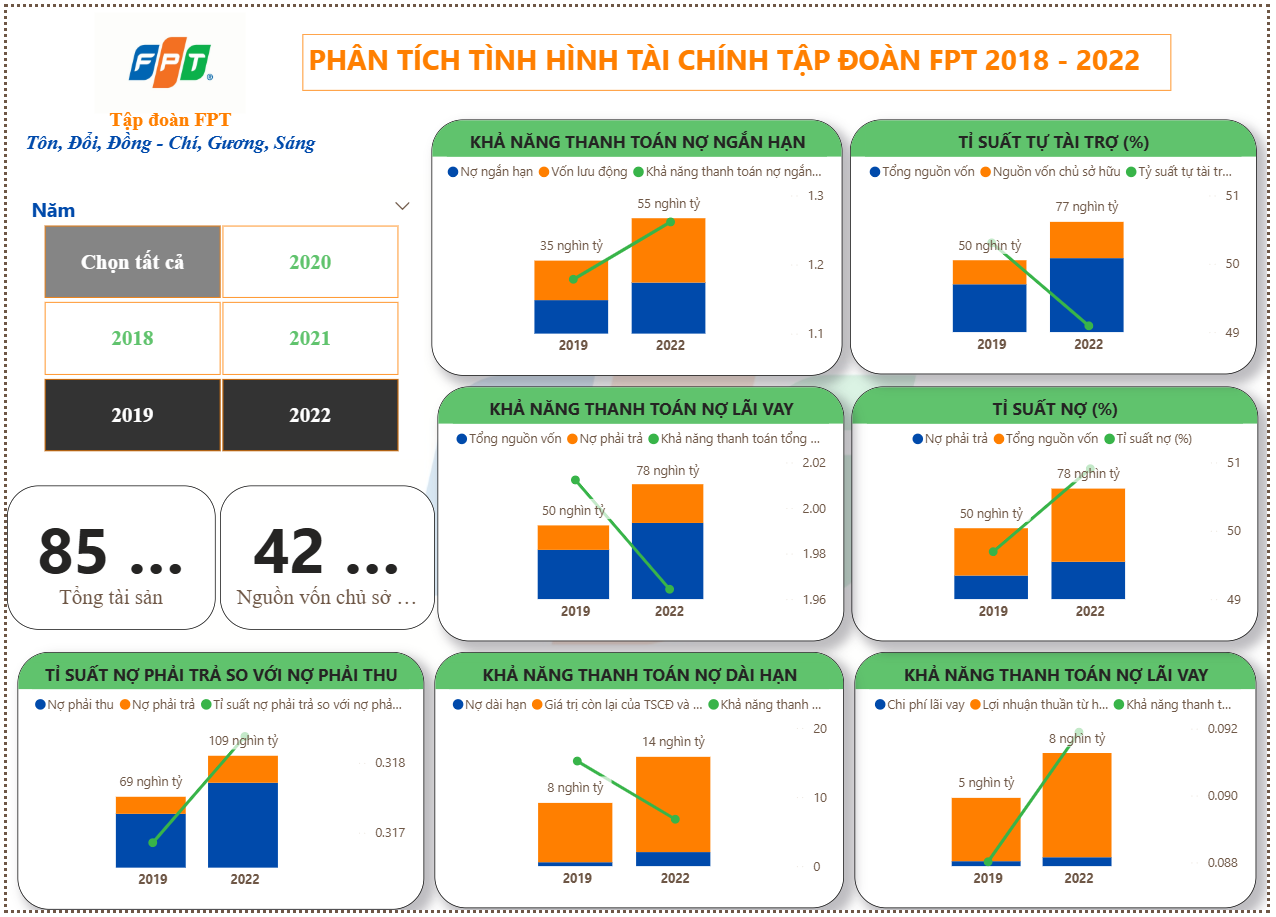

What the dashboard file says about the page in this screenshot:
{"tool":"powerbi","page":{"name":"PTTHTCDN","canvas":[1200,860],"ordinal":0},"visuals":[{"type":"lineStackedColumnComboChart","title":"KHẢ NĂNG THANH TOÁN NỢ NGẮN HẠN","fields":{"Category":["PTTCDN.Năm"],"Y":["Sum(PTTCDN.I. Nợ ngắn hạn)","Sum(PTTCDN.Vốn lưu động)"],"Y2":["Sum(PTTCDN.Khả năng thanh toán nợ ngắn hạn)"]},"box":[404.6,106.6,391.4,243.9],"z":0},{"type":"lineStackedColumnComboChart","title":"KHẢ NĂNG THANH TOÁN NỢ LÃI VAY","fields":{"Category":["PTTCDN.Năm"],"Y":["Sum(PTTCDN.Chi phí lãi vay)","Sum(PTTCDN.Lợi nhuận thuần từ hoạt động kinh doanh)"],"Y2":["Sum(PTTCDN.Khả năng thanh toán lãi vay)"]},"box":[807.7,614.9,382.7,243.9],"z":1000},{"type":"lineStackedColumnComboChart","title":"TỈ SUẤT NỢ (%)","fields":{"Category":["PTTCDN.Năm"],"Y":["Sum(PTTCDN.Nợ phải trả)","Sum(PTTCDN.Tổng nguồn vốn)"],"Y2":["Sum(PTTCDN.Tỉ suất nợ (%))"]},"box":[804.8,360.8,387.1,242.5],"z":2000},{"type":"lineStackedColumnComboChart","title":"KHẢ NĂNG THANH TOÁN NỢ LÃI VAY","fields":{"Category":["PTTCDN.Năm"],"Y2":["Sum(PTTCDN.Khả năng thanh toán tổng quát)"],"Y":["Sum(PTTCDN.Tổng nguồn vốn)","Sum(PTTCDN.Nợ phải trả)"]},"box":[410.4,360.8,387.1,242.5],"z":3000},{"type":"lineStackedColumnComboChart","title":"TỈ SUẤT NỢ PHẢI TRẢ SO VỚI NỢ PHẢI THU","fields":{"Category":["PTTCDN.Năm"],"Y":["Sum(PTTCDN.Nợ phải thu)","Sum(PTTCDN.Nợ phải trả)"],"Y2":["Sum(PTTCDN.Tỉ suất nợ phải trả so với nợ phải thu)"]},"box":[10.2,614.9,387.1,245.4],"z":4000},{"type":"lineStackedColumnComboChart","title":"KHẢ NĂNG THANH TOÁN NỢ DÀI HẠN","fields":{"Category":["PTTCDN.Năm"],"Y":["Sum(PTTCDN.II. Nợ dài hạn)","Sum(PTTCDN.Giá trị còn lại của TSCĐ và bất động sản đầu tư)"],"Y2":["Sum(PTTCDN.Khả năng thanh toán nợ dài hạn)"]},"box":[407.5,614.9,390,243.9],"z":5000},{"type":"lineStackedColumnComboChart","title":"TỈ SUẤT TỰ TÀI TRỢ (%)","fields":{"Category":["PTTCDN.Năm"],"Y":["Sum(PTTCDN.Tổng nguồn vốn)","Sum(PTTCDN.Nguồn vốn chủ sở hữu)"],"Y2":["Sum(PTTCDN.Tỉ suất nguồn vốn chủ sở hữu (Tỷ suất tự tài trợ) (%))"]},"box":[803.3,106.6,387.1,242.5],"z":6000},{"type":"card","fields":{"Values":["Sum(PTTCDN.Tổng tài sản)"]},"box":[0,455.7,198.6,137.3],"z":7000},{"type":"card","fields":{"Values":["Sum(PTTCDN.Nguồn vốn chủ sở hữu)"]},"box":[203,455.7,204.5,137.3],"z":8000},{"type":"slicer","fields":{"Values":["PTTCDN.Năm"]},"box":[10.2,174.6,386.4,255.9],"z":9000},{"type":"image","box":[40.9,0,227.9,106.6],"z":10000},{"type":"textbox","box":[281.4,25.4,827.1,54.2],"z":11000},{"type":"textbox","box":[0,92,311.1,61.3],"z":12000}]}

Visuals, with their boxes in screenshot pixels (x1, y1, x2, y2), scaled from the page's 1200x860 canvas onto the 1276x917 screenshot:
"KHẢ NĂNG THANH TOÁN NỢ NGẮN HẠN" lineStackedColumnComboChart: detection(430, 114, 846, 374)
"KHẢ NĂNG THANH TOÁN NỢ LÃI VAY" lineStackedColumnComboChart: detection(859, 656, 1266, 916)
"TỈ SUẤT NỢ (%)" lineStackedColumnComboChart: detection(856, 385, 1267, 643)
"KHẢ NĂNG THANH TOÁN NỢ LÃI VAY" lineStackedColumnComboChart: detection(436, 385, 848, 643)
"TỈ SUẤT NỢ PHẢI TRẢ SO VỚI NỢ PHẢI THU" lineStackedColumnComboChart: detection(11, 656, 422, 916)
"KHẢ NĂNG THANH TOÁN NỢ DÀI HẠN" lineStackedColumnComboChart: detection(433, 656, 848, 916)
"TỈ SUẤT TỰ TÀI TRỢ (%)" lineStackedColumnComboChart: detection(854, 114, 1266, 372)
card - Sum(PTTCDN.Tổng tài sản): detection(0, 486, 211, 632)
card - Sum(PTTCDN.Nguồn vốn chủ sở hữu): detection(216, 486, 433, 632)
slicer - PTTCDN.Năm: detection(11, 186, 422, 459)
image: detection(43, 0, 286, 114)
textbox: detection(299, 27, 1179, 85)
textbox: detection(0, 98, 331, 163)
